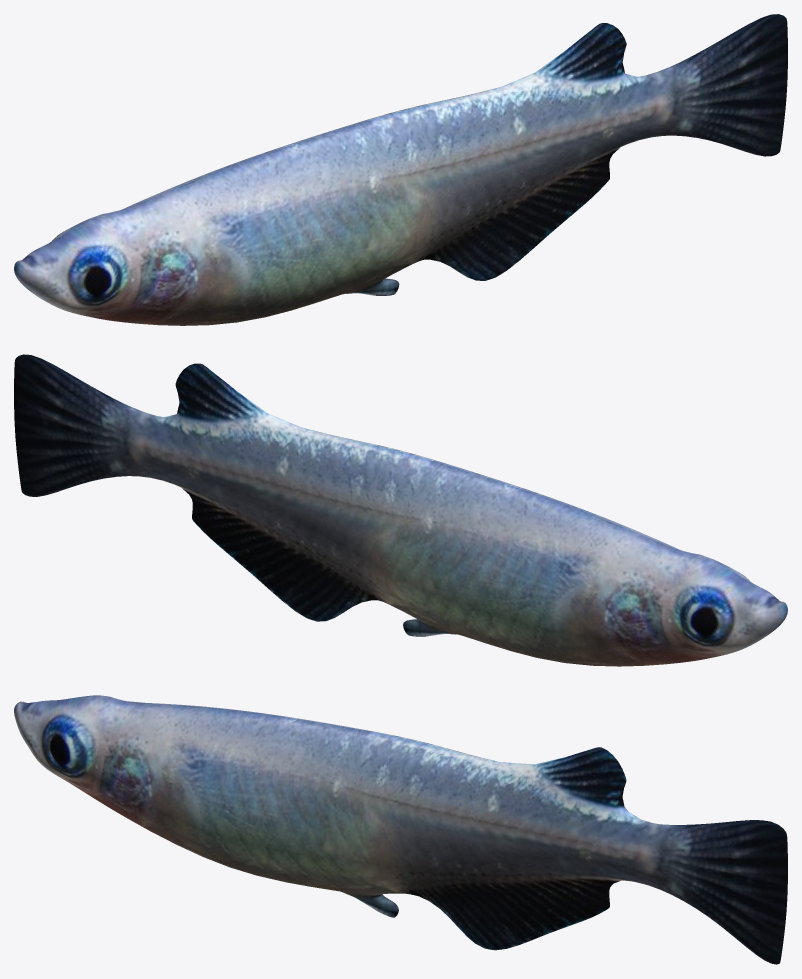
Rendered from fish.fbx.
The picture shows the model from 3 angles, top to bottom: view 1: azimuth 30°, elevation 25°; view 2: azimuth 150°, elevation 25°; view 3: azimuth 330°, elevation 25°; orthographic projection.
Visible parts, largest first — view 1: Medeka fish; view 2: Medeka fish; view 3: Medeka fish.
Part boxes in pixels (x1,y1,x2,y2): Medeka fish: [14, 14, 787, 325]; Medeka fish: [14, 354, 787, 666]; Medeka fish: [14, 695, 787, 964].
Size of the model in its own units: 27.92 by 7.93 by 3.
